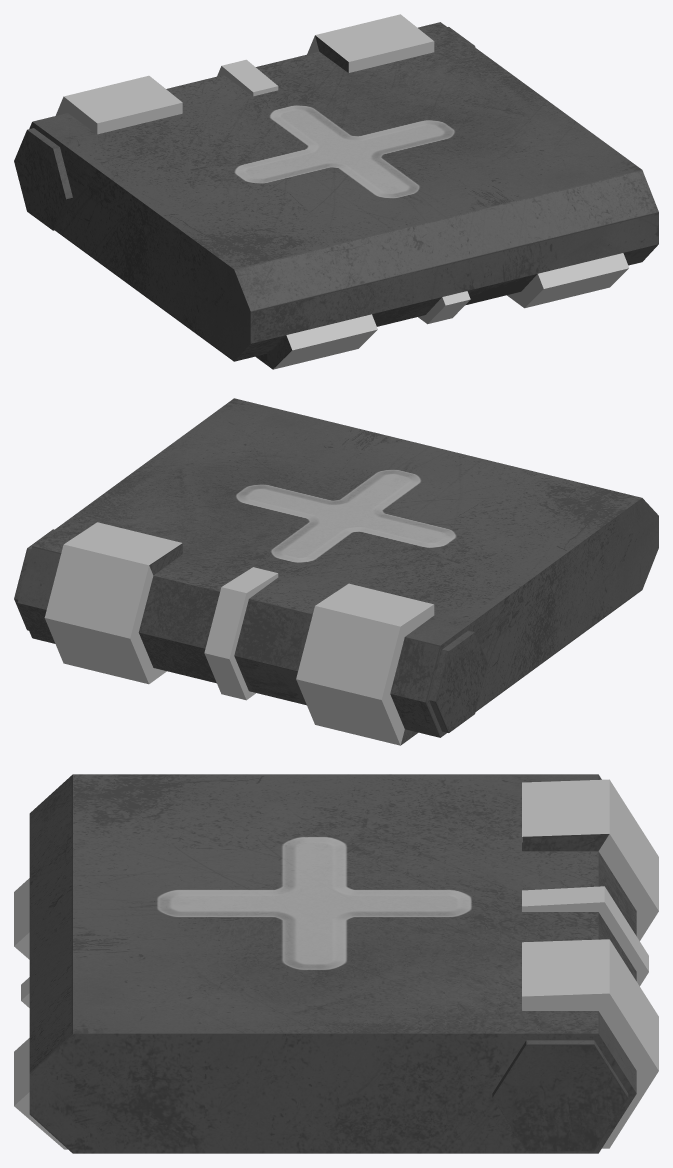
The model's file is firstaid.fbx.
3 views of the same model, one above another, from view 1: azimuth 30°, elevation 25°; view 2: azimuth 150°, elevation 25°; view 3: azimuth 270°, elevation 25° (orthographic). The views are drawn at different scales.
Parts seen in each view (by area): view 1: med_low; view 2: med_low; view 3: med_low.
Boxes of the visible parts, x1,y1,x2,y2 form: med_low: [14, 14, 658, 369]; med_low: [14, 398, 658, 745]; med_low: [14, 774, 658, 1153].
Size of the model in its own units: 0.5175 by 0.1405 by 0.5263.
